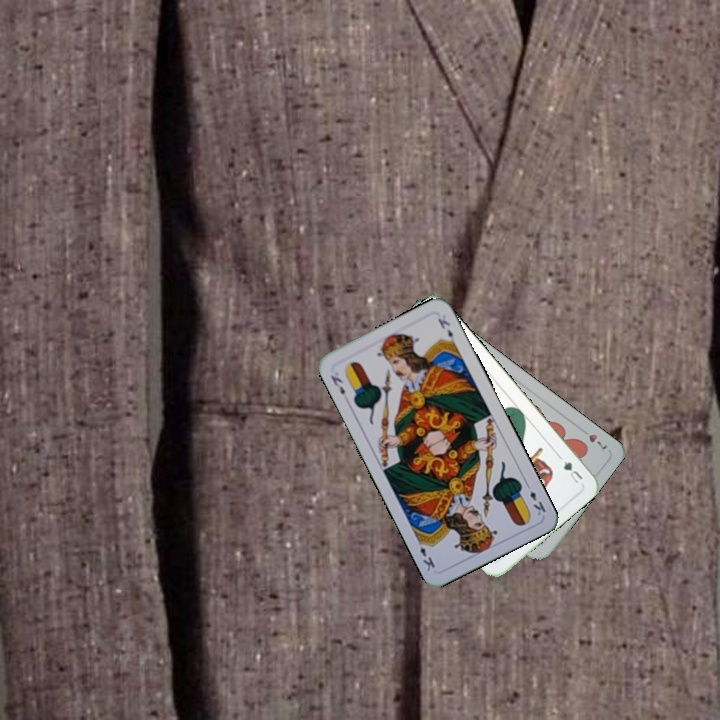EK: (522, 479, 548, 518), (326, 371, 347, 398)
GU: (559, 457, 585, 486)
H7: (585, 430, 610, 453)
